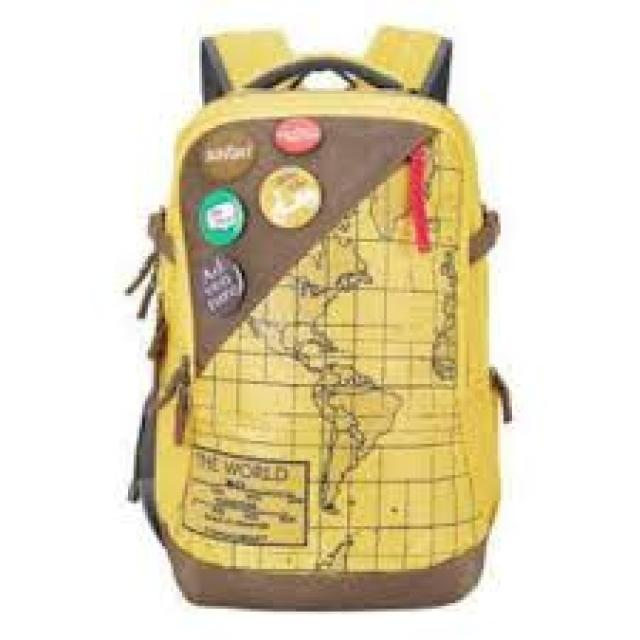backpack: (123, 24, 513, 613)
